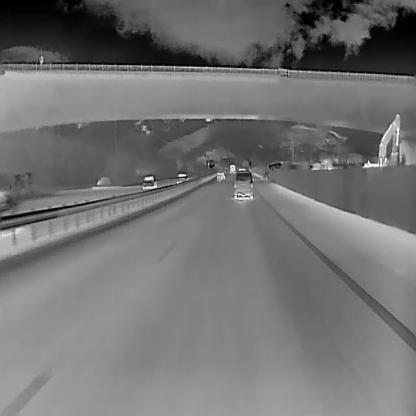car: (234, 168, 254, 200), (141, 174, 157, 189), (175, 171, 188, 183), (215, 168, 225, 181), (228, 163, 235, 173)
